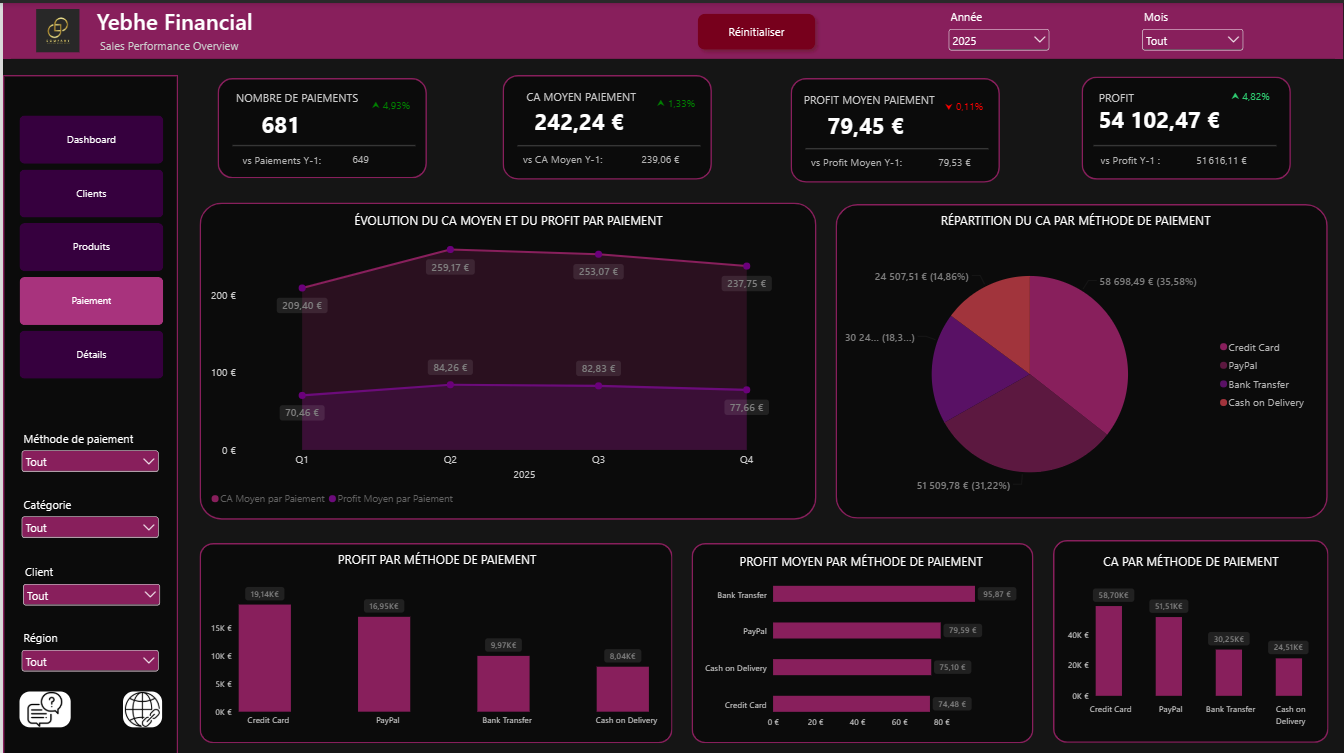

What the dashboard file says about the page in this screenshot:
{"tool":"powerbi","page":{"name":"Paiement ","canvas":[1920,1080],"ordinal":3},"visuals":[{"type":"shape","box":[280.4,284.8,883.7,454.3],"z":0},{"type":"shape","title":"top bar","box":[0,0,1919.7,80],"z":1000},{"type":"shape","box":[716,103.3,300,150],"z":2000,"group":"g1"},{"type":"shape","title":"sidebar","box":[0,103.8,250.9,975.5],"z":2000},{"type":"shape","box":[1545.8,104.3,299.9,147.8],"z":2000,"group":"g9"},{"type":"shape","box":[306.5,106.5,300,143.7],"z":2000,"group":"g2"},{"type":"shape","box":[1127.5,106.5,300,150],"z":2000,"group":"g3"},{"type":"slicer","title":"slicer month_name","fields":{"Values":["dim_date.Month_name"]},"box":[1626.2,9.5,154.8,64.3],"z":3000},{"type":"textbox","title":"title dash","box":[124,4,251.5,47],"z":4000},{"type":"image","title":"logo","box":[40.9,7.6,75.8,62.1],"z":5000},{"type":"slicer","title":"year Slicer","fields":{"Values":["dim_date.Year"]},"box":[1350,9.5,154.5,62.1],"z":6000},{"type":"actionButton","box":[985.7,7.1,186.4,69.7],"z":7000},{"type":"group","id":"g1","title":"Group 1","box":[716,103.3,300,150],"z":8000,"group":"g5"},{"type":"group","id":"g2","title":"Group 1","box":[306.5,106.5,300,145.2],"z":8000,"group":"g4"},{"type":"group","id":"g3","title":"Group 1","box":[1127.5,106.5,300,150],"z":8000,"group":"g6"},{"type":"shape","box":[985.7,773.8,489.8,286.9],"z":8000,"group":"g7"},{"type":"slicer","title":"year Slicer","fields":{"Values":["dim_customer.Customer_Name"]},"box":[22.7,802.7,206.1,62.1],"z":8000},{"type":"slicer","title":"year Slicer","fields":{"Values":["dim_country.Region"]},"box":[22,898,206.1,62.1],"z":9000},{"type":"card","fields":{"Values":["_Mesures.Nb Paiements LY Affichage"]},"box":[446.7,198.8,131,52.8],"z":10000,"group":"g2"},{"type":"cardVisual","fields":{"Data":["_Mesures.Profit LY Affichage"]},"box":[1693.5,201.1,132.6,46.5],"z":10000,"group":"g9"},{"type":"card","fields":{"Values":["_Mesures.CA Moyen Paiement LY Affichage"]},"box":[877.3,202.7,130.4,47.8],"z":10000,"group":"g1"},{"type":"card","fields":{"Values":["_Mesures.Profit Moyen Paiement LY Affichage"]},"box":[1297.1,207,130.4,43.5],"z":10000,"group":"g3"},{"type":"slicer","title":"year Slicer","fields":{"Values":["dim_product.Product_Category"]},"box":[22,707.3,206.1,62.1],"z":10000},{"type":"cardVisual","fields":{"Data":["_Mesures.Profit"]},"box":[1554.4,129.3,226,71.8],"z":11000,"group":"g9"},{"type":"card","fields":{"Values":["_Mesures.CA Moyen Paiement Affiachage"]},"box":[716,135.3,219.6,71.7],"z":11000,"group":"g1"},{"type":"card","fields":{"Values":["_Mesures.Nb Paiements"]},"box":[309.9,147.6,172.5,54.5],"z":11000,"group":"g2"},{"type":"slicer","title":"year Slicer","fields":{"Values":["dim_payment.Payment_Method"]},"box":[22,612,206.1,62.1],"z":11000},{"type":"shape","box":[280.4,773.2,677.7,286.9],"z":11000,"group":"g7"},{"type":"pageNavigator","box":[22.7,160.6,206.1,378.8],"z":12000},{"type":"textbox","box":[734.9,198.3,152.3,46.2],"z":12000,"group":"g1"},{"type":"textbox","box":[331.5,198.8,152.2,43.5],"z":12000,"group":"g2"},{"type":"textbox","box":[1561.9,199.9,122.7,42.7],"z":12000,"group":"g9"},{"type":"textbox","box":[1146.4,201.5,152.3,46.2],"z":12000,"group":"g3"},{"type":"shape","box":[1502.6,769.6,394.7,290.6],"z":12000,"group":"g7"},{"type":"textbox","box":[130,50,214,30],"z":13000},{"type":"clusteredBarChart","title":"PROFIT MOYEN PAR MÉTHODE DE PAIEMENT","fields":{"Category":["dim_payment.Payment_Method"],"Y":["_Mesures.Profit Moyen par Paiement"]},"box":[983.5,773.8,492.2,285.1],"z":15000,"group":"g7"},{"type":"group","id":"g4","title":"Group 2","box":[306.5,106.5,300,145.2],"z":16000},{"type":"shape","box":[328.2,199.4,262.1,8.7],"z":16000,"group":"g4"},{"type":"shape","box":[737.7,200.3,262.1,9.1],"z":16000,"group":"g5"},{"type":"shape","box":[1149.2,203.5,262.1,9.1],"z":16000,"group":"g6"},{"type":"group","id":"g5","title":"Group 2","box":[716,103.3,300,150],"z":17000},{"type":"textbox","box":[731.8,122.3,195.7,41.3],"z":17000,"group":"g1"},{"type":"textbox","box":[322.8,122.8,193.5,34.8],"z":17000,"group":"g2"},{"type":"textbox","box":[1537,124,117.4,31.7],"z":17000,"group":"g9"},{"type":"textbox","box":[1143.3,125.5,195.7,41.3],"z":17000,"group":"g3"},{"type":"group","id":"g6","title":"Group 2","box":[1127.5,106.5,300,150],"z":18000,"group":"g8"},{"type":"shape","box":[1563.4,199.9,262,8.8],"z":18000,"group":"g9"},{"type":"group","id":"g7","title":"Group 3","box":[280.4,769.6,1617.1,291.1],"z":18000},{"type":"cardVisual","fields":{"Data":["_Mesures.Profit YOY Affichage"]},"box":[1743.6,105.7,93.5,52.2],"z":19000,"group":"g9"},{"type":"card","fields":{"Values":["_Mesures.Taux CA Moyen Paiement Affichage"]},"box":[920.7,125.7,87.9,40.9],"z":19000,"group":"g1"},{"type":"card","fields":{"Values":["_Mesures.Taux Paiements Affichage"]},"box":[511.2,127.9,87.9,39.2],"z":19000,"group":"g2"},{"type":"card","fields":{"Values":["_Mesures.Taux Profit Moyen Paiement Affichage"]},"box":[1332.2,128.9,87.9,40.9],"z":19000,"group":"g3"},{"type":"lineChart","title":"ÉVOLUTION DU CA MOYEN ET DU PROFIT PAR PAIEMENT ","fields":{"Category":["dim_date.Year Hiérarchie.Year","dim_date.Year Hiérarchie.Quarter_name","dim_date.Year Hiérarchie.Month_name"],"Y":["_Mesures.CA Moyen par Paiement","_Mesures.Profit Moyen par Paiement"]},"box":[282.6,284.8,882.6,454.3],"z":19000},{"type":"group","id":"g8","title":"Group 5","box":[1125.5,106.5,302,150],"z":20000},{"type":"card","fields":{"Values":["_Mesures.Profit Moyen Paiement Affichage"]},"box":[1125.5,131.5,219.6,87],"z":21000,"group":"g8"},{"type":"clusteredColumnChart","title":"PROFIT PAR MÉTHODE DE PAIEMENT","fields":{"Category":["dim_payment.Payment_Method"],"Y":["_Mesures.Profit"]},"box":[282.6,771.7,678.3,284.8],"z":21000},{"type":"group","id":"g9","title":"Group 1","box":[1537,104.3,308.7,147.8],"z":22000},{"type":"shape","box":[1192.7,288.3,705.1,450.8],"z":23000},{"type":"pieChart","title":"RÉPARTITION DU CA PAR MÉTHODE DE PAIEMENT","fields":{"Category":["dim_payment.Payment_Method"],"Y":["_Mesures.CA"]},"box":[1185.6,284.8,702.7,454.3],"z":24000},{"type":"image","box":[23.6,986.2,73.1,51.6],"z":24001},{"type":"image","box":[171.9,986.2,55.9,51.6],"z":24002},{"type":"clusteredColumnChart","title":"CA PAR MÉTHODE DE PAIEMENT","fields":{"Category":["dim_payment.Payment_Method"],"Y":["_Mesures.CA"]},"box":[1504.5,773.8,393,280.9],"z":27000,"group":"g7"}]}

Visuals, with their boxes in screenshot pixels (x1, y1, x2, y2), scaled from the page's 1920x1080 canvas onto the 1344x753 screenshot:
shape: (196, 199, 815, 515)
"top bar" shape: (0, 0, 1343, 56)
shape: (501, 72, 711, 177)
"sidebar" shape: (0, 72, 176, 752)
shape: (1082, 73, 1292, 176)
shape: (215, 74, 425, 174)
shape: (789, 74, 999, 179)
"slicer month_name" slicer: (1138, 7, 1247, 51)
"title dash" textbox: (87, 3, 263, 36)
"logo" image: (29, 5, 82, 49)
"year Slicer" slicer: (945, 7, 1053, 50)
actionButton: (690, 5, 820, 54)
"Group 1" group: (501, 72, 711, 177)
"Group 1" group: (215, 74, 425, 175)
"Group 1" group: (789, 74, 999, 179)
shape: (690, 540, 1033, 740)
"year Slicer" slicer: (16, 560, 160, 603)
"year Slicer" slicer: (15, 626, 160, 669)
card - _Mesures.Nb Paiements LY Affichage: (313, 139, 404, 175)
cardVisual - _Mesures.Profit LY Affichage: (1185, 140, 1278, 173)
card - _Mesures.CA Moyen Paiement LY Affichage: (614, 141, 705, 175)
card - _Mesures.Profit Moyen Paiement LY Affichage: (908, 144, 999, 175)
"year Slicer" slicer: (15, 493, 160, 536)
cardVisual - _Mesures.Profit: (1088, 90, 1246, 140)
card - _Mesures.CA Moyen Paiement Affiachage: (501, 94, 655, 144)
card - _Mesures.Nb Paiements: (217, 103, 338, 141)
"year Slicer" slicer: (15, 427, 160, 470)
shape: (196, 539, 671, 739)
pageNavigator: (16, 112, 160, 376)
textbox: (514, 138, 621, 170)
textbox: (232, 139, 339, 169)
textbox: (1093, 139, 1179, 169)
textbox: (802, 140, 909, 173)
shape: (1052, 537, 1328, 739)
textbox: (91, 35, 241, 56)
"PROFIT MOYEN PAR MÉTHODE DE PAIEMENT" clusteredBarChart: (688, 540, 1033, 738)
"Group 2" group: (215, 74, 425, 175)
shape: (230, 139, 413, 145)
shape: (516, 140, 700, 146)
shape: (804, 142, 988, 148)
"Group 2" group: (501, 72, 711, 177)
textbox: (512, 85, 649, 114)
textbox: (226, 86, 361, 110)
textbox: (1076, 86, 1158, 109)
textbox: (800, 88, 937, 116)
"Group 2" group: (789, 74, 999, 179)
shape: (1094, 139, 1278, 146)
"Group 3" group: (196, 537, 1328, 740)
cardVisual - _Mesures.Profit YOY Affichage: (1221, 74, 1286, 110)
card - _Mesures.Taux CA Moyen Paiement Affichage: (644, 88, 706, 116)
card - _Mesures.Taux Paiements Affichage: (358, 89, 419, 117)
card - _Mesures.Taux Profit Moyen Paiement Affichage: (933, 90, 994, 118)
"ÉVOLUTION DU CA MOYEN ET DU PROFIT PAR PAIEMENT " lineChart: (198, 199, 816, 515)
"Group 5" group: (788, 74, 999, 179)
card - _Mesures.Profit Moyen Paiement Affichage: (788, 92, 942, 152)
"PROFIT PAR MÉTHODE DE PAIEMENT" clusteredColumnChart: (198, 538, 673, 737)
"Group 1" group: (1076, 73, 1292, 176)
shape: (835, 201, 1328, 515)
"RÉPARTITION DU CA PAR MÉTHODE DE PAIEMENT" pieChart: (830, 199, 1322, 515)
image: (17, 688, 68, 724)
image: (120, 688, 159, 724)
"CA PAR MÉTHODE DE PAIEMENT" clusteredColumnChart: (1053, 540, 1328, 735)
